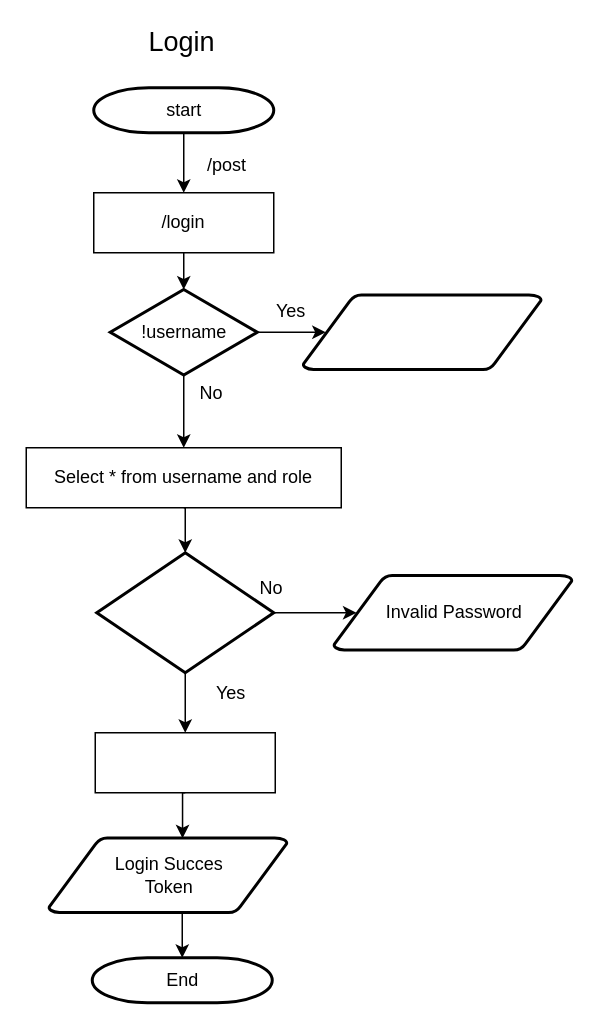
This 600x1029 diagram has some shape labels left out. The centre of each missing label's shape, as x and y in pixels:
Generate JWT Token: [184,762]
Username Required: [421,331]
ValidPassword: [184,612]
